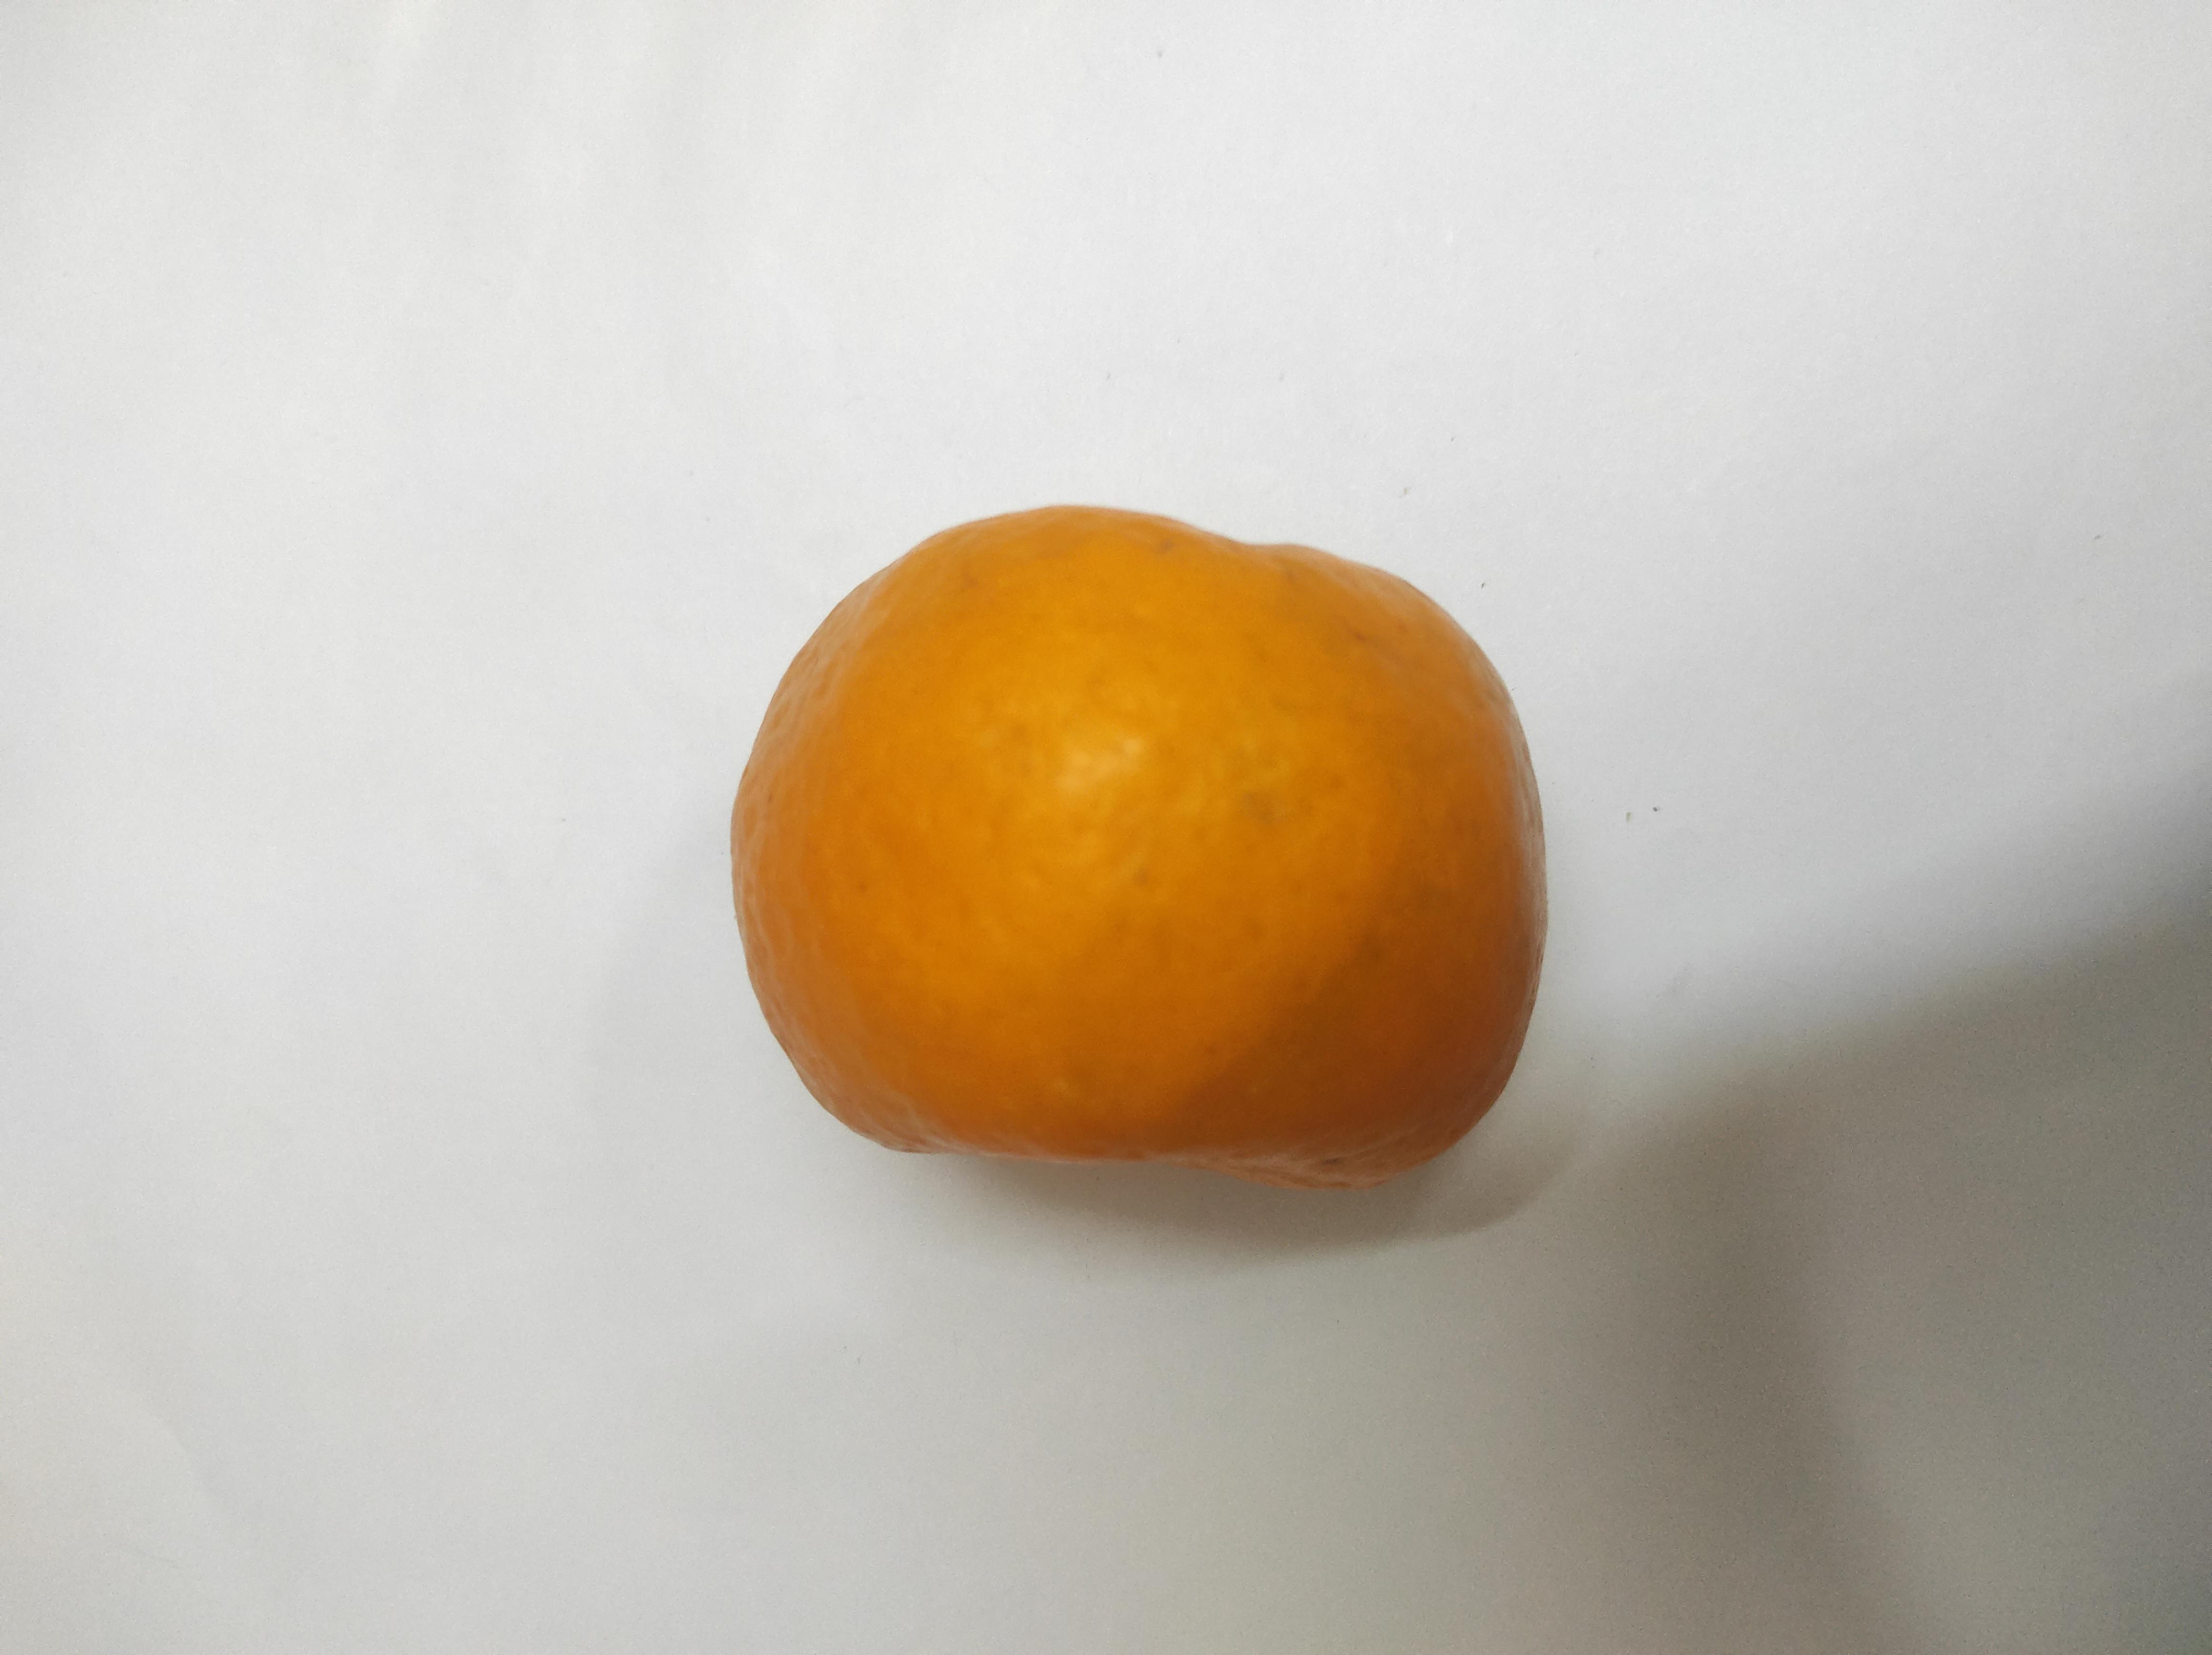Ripe: (725, 509, 1563, 1191)
